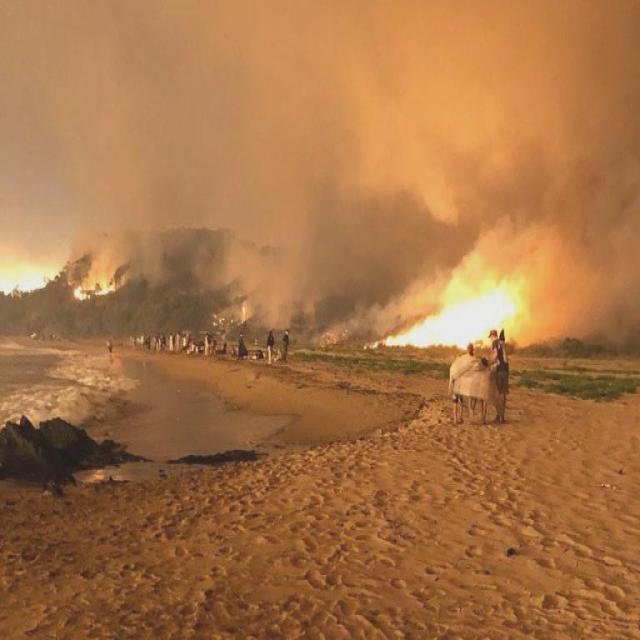Fire: (360, 266, 528, 354), (1, 260, 116, 300)
Smoke: (3, 1, 640, 252), (118, 256, 356, 350), (530, 258, 640, 351)
